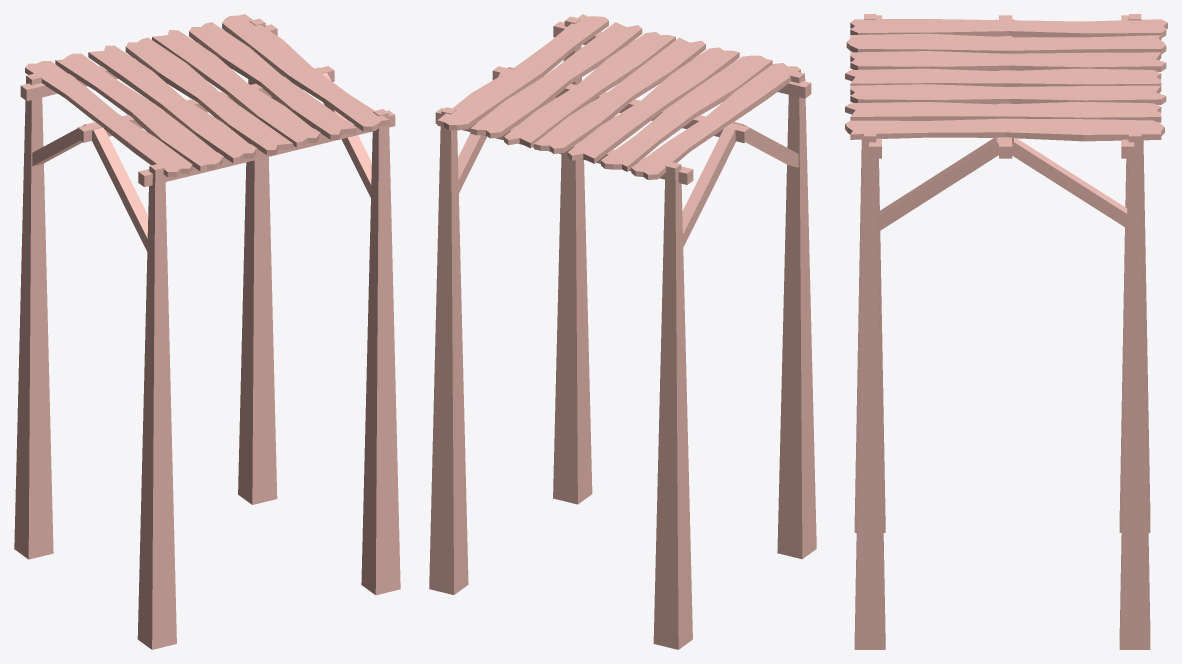
Rendered from Mega_Asset_s_Pack_Cube_267.FBX.
3 views of the same model, side by side, from view 1: azimuth 30°, elevation 25°; view 2: azimuth 150°, elevation 25°; view 3: azimuth 270°, elevation 25° (orthographic). The views are drawn at different scales.
Visible parts, largest first — view 1: Mega_Asset_s_Pack_Cube_267; view 2: Mega_Asset_s_Pack_Cube_267; view 3: Mega_Asset_s_Pack_Cube_267.
Part boxes in pixels (x1=…): Mega_Asset_s_Pack_Cube_267: x1=14, y1=14, x2=400, y2=649; Mega_Asset_s_Pack_Cube_267: x1=429, y1=14, x2=816, y2=649; Mega_Asset_s_Pack_Cube_267: x1=845, y1=14, x2=1167, y2=649.
Size of what is drawn, in the model's own units: 287 by 298 by 519.
